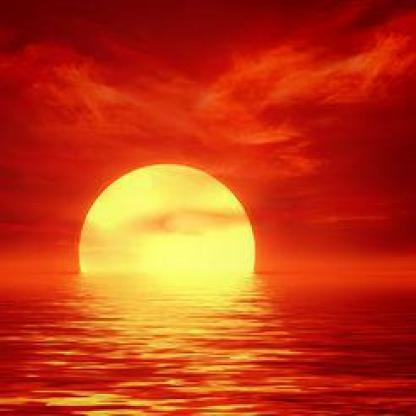other: (68, 147, 275, 340)
